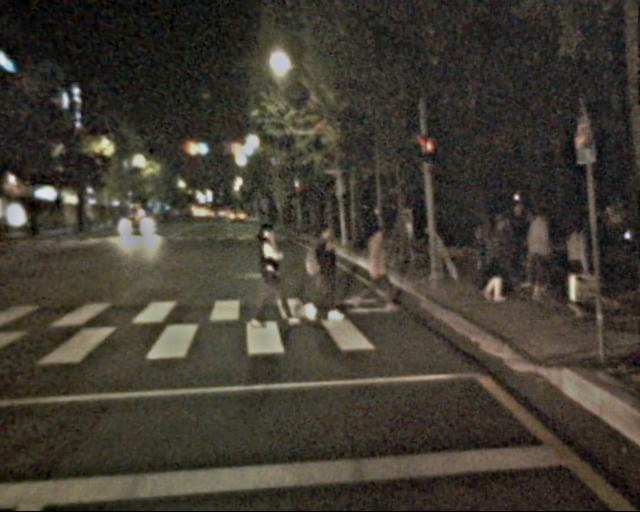person: (481, 207, 556, 302), (242, 222, 285, 328), (553, 212, 596, 318), (298, 222, 339, 321), (353, 223, 391, 316), (581, 205, 616, 291)
